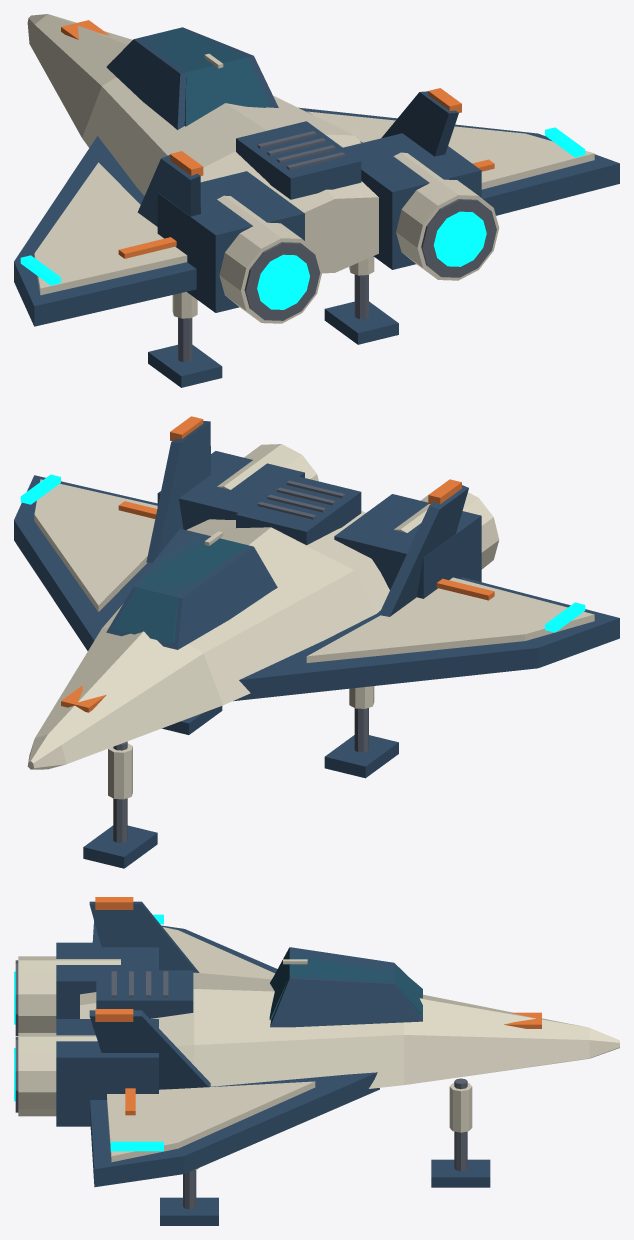
Rendered from ship.glb.
3 renders of one model, top to bottom at view 1: azimuth 30°, elevation 25°; view 2: azimuth 150°, elevation 25°; view 3: azimuth 270°, elevation 25°, orthographic. The views are drawn at different scales.
Visible parts, largest first — view 1: ship_hull, ship_wing_armor_l, ship_wing_l, ship_engine_mount_l, ship_engine_mount_r, ship_wing_armor_r, ship_canopy, ship_canopy_frame, ship_rear_deck, ship_wing_r, ship_engine_r, ship_engine_l (+14 smaller); view 2: ship_hull, ship_wing_l, ship_wing_armor_l, ship_wing_armor_r, ship_canopy_frame, ship_engine_mount_l, ship_canopy, ship_wing_r, ship_rear_deck, ship_engine_mount_r, ship_fin_r, ship_fin_l (+9 smaller); view 3: ship_hull, ship_wing_r, ship_wing_armor_r, ship_canopy_frame, ship_engine_mount_r, ship_fin_r, ship_engine_mount_l, ship_rear_deck, ship_engine_r, ship_fin_l, ship_engine_l, ship_canopy (+10 smaller).
Boxes of the visible parts, x1,y1,x2,y2 form: ship_hull: [27, 14, 378, 273]; ship_wing_armor_l: [34, 162, 187, 295]; ship_wing_l: [14, 136, 196, 326]; ship_engine_mount_l: [157, 171, 304, 312]; ship_engine_mount_r: [343, 133, 481, 269]; ship_wing_armor_r: [306, 111, 594, 189]; ship_canopy: [112, 28, 270, 126]; ship_canopy_frame: [106, 27, 278, 129]; ship_rear_deck: [236, 121, 361, 199]; ship_wing_r: [298, 107, 619, 215]; ship_engine_r: [393, 152, 499, 280]; ship_engine_l: [217, 195, 322, 323]; ship_hull: [27, 511, 389, 769]; ship_wing_l: [233, 577, 619, 701]; ship_wing_armor_l: [306, 577, 594, 662]; ship_wing_armor_r: [34, 479, 157, 611]; ship_canopy_frame: [106, 528, 277, 649]; ship_engine_mount_l: [334, 494, 481, 598]; ship_canopy: [112, 536, 247, 643]; ship_wing_r: [14, 475, 157, 650]; ship_rear_deck: [236, 474, 361, 545]; ship_engine_mount_r: [157, 451, 304, 529]; ship_fin_r: [146, 421, 210, 562]; ship_fin_l: [378, 485, 468, 616]; ship_hull: [80, 972, 619, 1088]; ship_wing_r: [90, 1072, 379, 1187]; ship_wing_armor_r: [107, 1081, 315, 1162]; ship_canopy_frame: [270, 947, 422, 1027]; ship_engine_mount_r: [56, 1019, 158, 1126]; ship_fin_r: [89, 1010, 210, 1088]; ship_engine_mount_l: [56, 942, 158, 1018]; ship_rear_deck: [96, 970, 193, 1018]; ship_engine_r: [18, 1033, 97, 1116]; ship_fin_l: [89, 901, 199, 972]; ship_engine_l: [18, 956, 120, 1032]; ship_canopy: [269, 950, 422, 1020].
Bounding box in the file's own units: 6.3 × 2.58 × 6.36.
